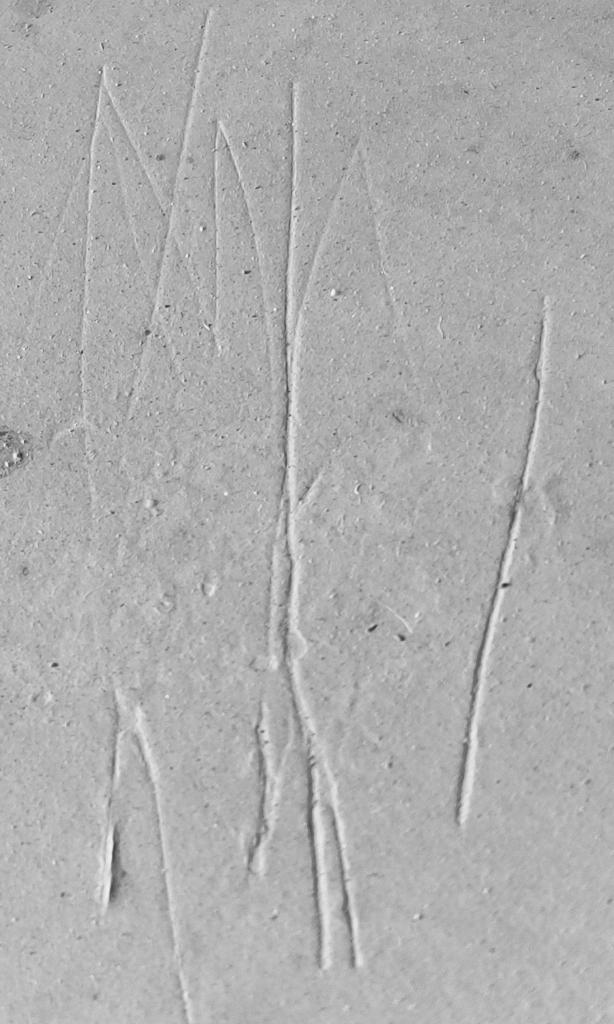scratch: (0, 1, 614, 1024)
